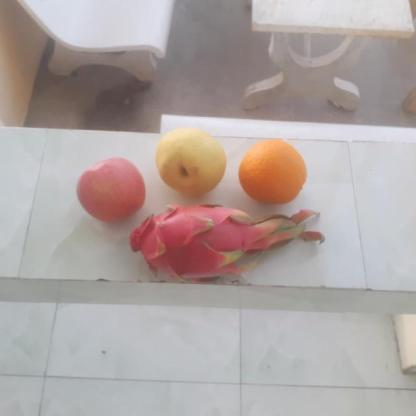apple: (74, 156, 146, 222)
orange: (234, 138, 308, 205)
pear: (152, 127, 229, 197)
pitaya: (121, 204, 251, 284)
